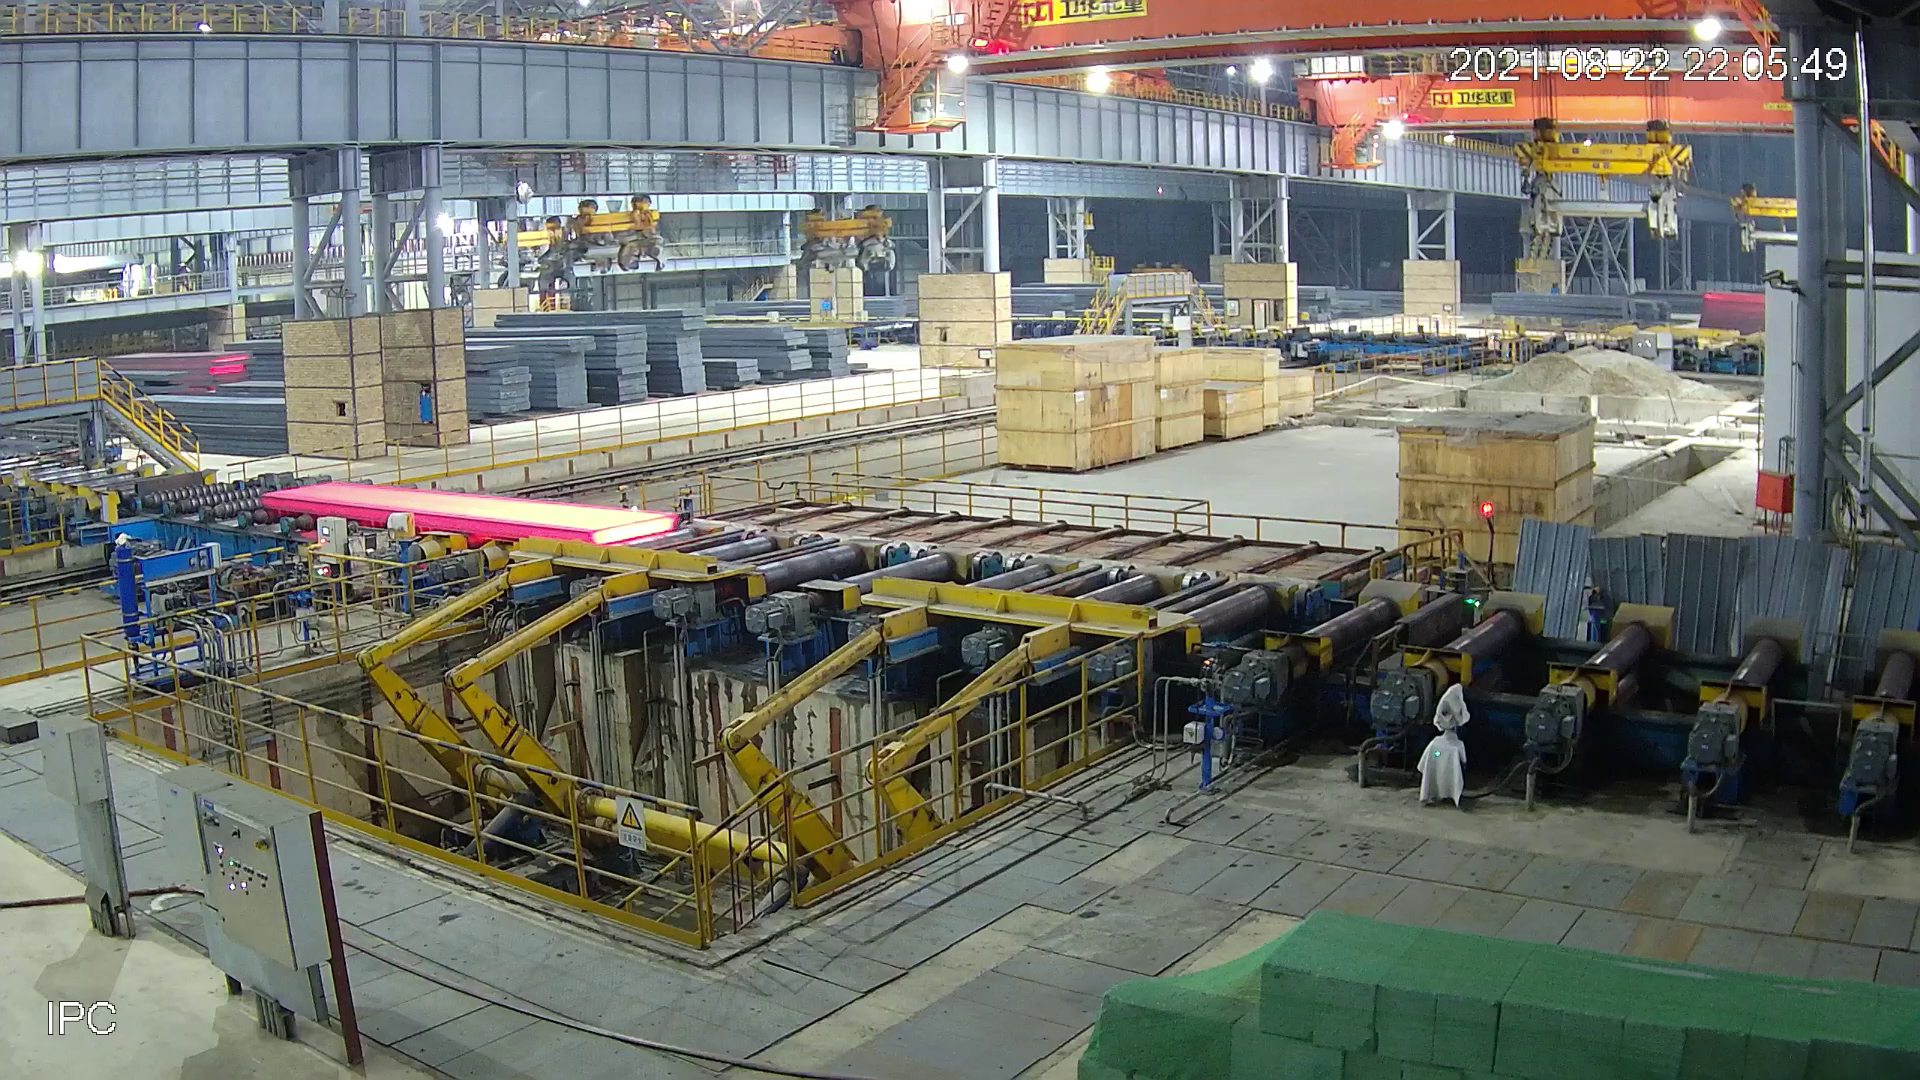slab: (261, 480, 680, 545)
